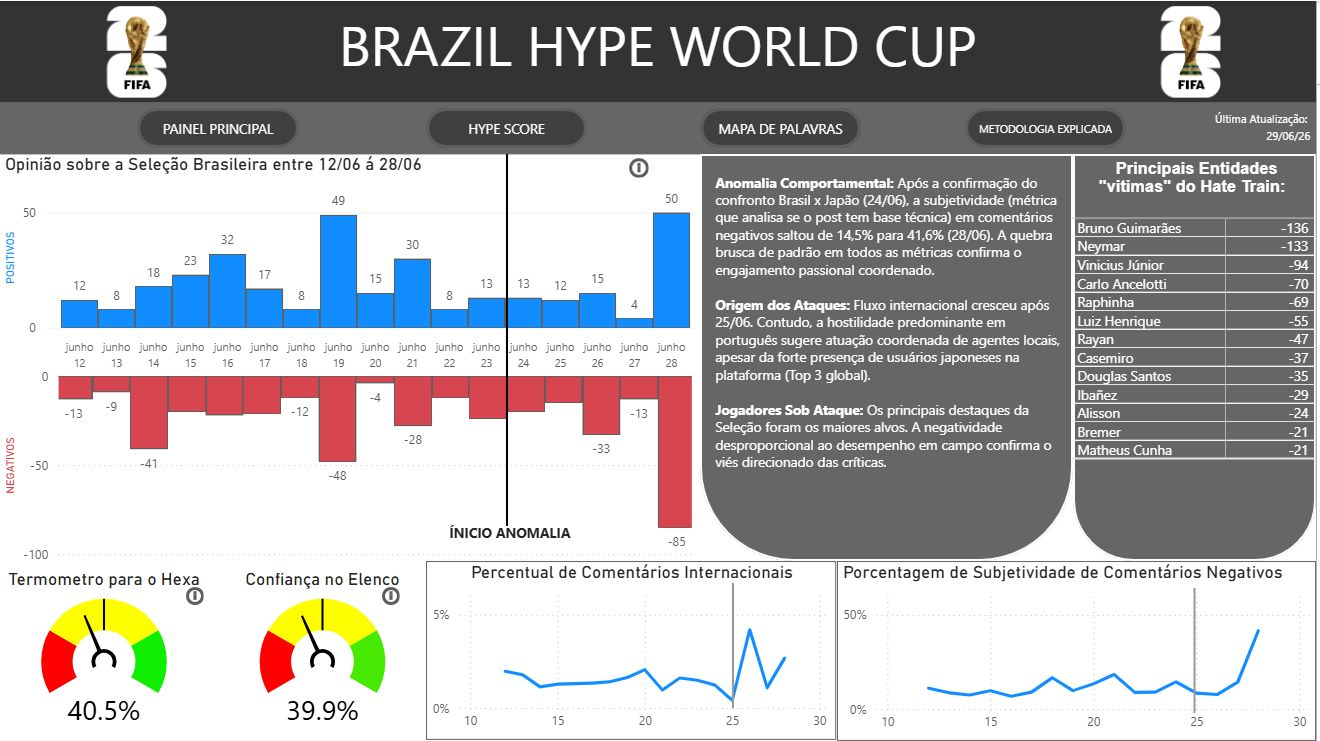

The dashboard page shown, as its layout file describes it:
{"tool":"powerbi","page":{"name":"Página 1","canvas":[1280,720],"ordinal":0},"visuals":[{"type":"clusteredColumnChart","title":"Opinião sobre a Seleção Brasileira entre 12/06 á 28/06","fields":{"Series":["df_obt.nome_entidade"],"Y":["df_obt.Total_Positivos"],"Category":["df_obt.data.Variation.Hierarquia de datas.Ano","df_obt.data.Variation.Hierarquia de datas.Trimestre","df_obt.data.Variation.Hierarquia de datas.Mês","df_obt.data.Variation.Hierarquia de datas.Dia"]},"box":[7.8,148.8,794.7,217.9],"z":0},{"type":"columnChart","fields":{"Y":["df_obt.Total_Negativos_Piramide"],"Category":["df_obt.data.Variation.Hierarquia de datas.Ano","df_obt.data.Variation.Hierarquia de datas.Trimestre","df_obt.data.Variation.Hierarquia de datas.Mês","df_obt.data.Variation.Hierarquia de datas.Dia"],"Series":["df_obt.nome_entidade"]},"box":[7.8,332.6,794.7,196.5],"z":1000},{"type":"textbox","box":[0,0,1279.5,98.9],"z":2000},{"type":"image","box":[88.6,0,88.6,98.9],"z":2002,"group":"g1"},{"type":"image","box":[1113.6,0,88.6,98.9],"z":2012,"group":"g1"},{"type":"textbox","box":[0,98.9,1279.5,50],"z":3000},{"type":"actionButton","box":[133.2,104.1,157.6,38.9],"z":4000,"group":"g2"},{"type":"Tachometer1474636471549","title":"Termometro para o Hexa","fields":{"Y":["df_obt.Termometro_Hexa"]},"box":[0,552.5,202.3,167.3],"z":4000},{"type":"group","id":"g1","title":"Grupo 1","box":[88.6,0,1113.6,98.9],"z":5000,"group":"g2"},{"type":"Tachometer1474636471549","fields":{"Y":["df_obt.Confianca_Elenco"]},"box":[202.3,552.5,222.7,167.3],"z":5000},{"type":"shape","box":[956.1,148.8,323.9,395.9],"z":6000},{"type":"actionButton","box":[414.3,104.1,156.6,38.9],"z":7000,"group":"g2"},{"type":"actionButton","box":[367.7,566.1,25.3,26.3],"z":9000},{"type":"actionButton","box":[607.9,148.8,32.1,27.2],"z":10000},{"type":"actionButton","box":[680.8,104.1,156.6,38.9],"z":11000,"group":"g2"},{"type":"actionButton","box":[177,566.1,25.3,26.3],"z":11000},{"type":"group","id":"g2","title":"Grupo 2","box":[88.6,0,1113.6,143],"z":14000},{"type":"lineChart","title":"Porcentagem de Subjetividade de Comentários Negativos","fields":{"Category":["df_obt.data.Variation.Hierarquia de datas.Dia"],"Y":["data 22 - 28 (5).%_Negatividade_Subjetiva_Dia"]},"box":[814.1,544.7,465.9,175.1],"z":15000},{"type":"textbox","box":[956.1,162.4,323.9,366.7],"z":16000},{"type":"lineChart","title":"Percentual de Comentários Internacionais","fields":{"Y":["data 22 - 28 (5).Percentual_Internacional"],"Category":["df_obt.data.Variation.Hierarquia de datas.Dia"]},"box":[414.3,544.7,398.8,174.1],"z":17000},{"type":"actionButton","box":[938.6,104.1,156.6,38.9],"z":18000,"group":"g2"},{"type":"shape","box":[425,151.7,97.3,361.8],"z":19000},{"type":"textbox","box":[431.9,502.9,139.1,41.8],"z":20000},{"type":"shape","box":[563.2,566.1,299.6,121.6],"z":21000},{"type":"shape","box":[1043.6,570.9,236.4,121.6],"z":22000}]}

Visuals, with their boxes in screenshot pixels (x1, y1, x2, y2), scaled from the page's 1280x720 canvas onto the 1320x741 screenshot:
"Opinião sobre a Seleção Brasileira entre 12/06 á 28/06" clusteredColumnChart: <bbox>8, 153, 828, 377</bbox>
columnChart - df_obt.Total_Negativos_Piramide x df_obt.data.Variation.Hierarquia de datas.Ano: <bbox>8, 342, 828, 545</bbox>
textbox: <bbox>0, 0, 1319, 102</bbox>
image: <bbox>91, 0, 183, 102</bbox>
image: <bbox>1148, 0, 1240, 102</bbox>
textbox: <bbox>0, 102, 1319, 153</bbox>
actionButton: <bbox>137, 107, 300, 147</bbox>
"Termometro para o Hexa" Tachometer1474636471549: <bbox>0, 569, 209, 740</bbox>
"Grupo 1" group: <bbox>91, 0, 1240, 102</bbox>
Tachometer1474636471549 - df_obt.Confianca_Elenco: <bbox>209, 569, 438, 740</bbox>
shape: <bbox>986, 153, 1319, 561</bbox>
actionButton: <bbox>427, 107, 589, 147</bbox>
actionButton: <bbox>379, 583, 405, 610</bbox>
actionButton: <bbox>627, 153, 660, 181</bbox>
actionButton: <bbox>702, 107, 864, 147</bbox>
actionButton: <bbox>183, 583, 209, 610</bbox>
"Grupo 2" group: <bbox>91, 0, 1240, 147</bbox>
"Porcentagem de Subjetividade de Comentários Negativos" lineChart: <bbox>840, 561, 1319, 740</bbox>
textbox: <bbox>986, 167, 1319, 545</bbox>
"Percentual de Comentários Internacionais" lineChart: <bbox>427, 561, 839, 740</bbox>
actionButton: <bbox>968, 107, 1129, 147</bbox>
shape: <bbox>438, 156, 539, 528</bbox>
textbox: <bbox>445, 518, 589, 561</bbox>
shape: <bbox>581, 583, 890, 708</bbox>
shape: <bbox>1076, 588, 1319, 713</bbox>
